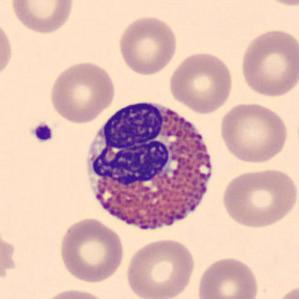Eosinophil: (76, 90, 222, 242)
Platelets: (31, 121, 54, 144)
RBC: (220, 165, 298, 230), (57, 216, 127, 284), (217, 100, 290, 165), (123, 235, 197, 299), (47, 59, 117, 124), (167, 49, 235, 115), (238, 26, 298, 99), (116, 13, 180, 77), (194, 254, 260, 299), (8, 0, 76, 36), (0, 16, 15, 84), (37, 286, 110, 299), (275, 283, 298, 299), (254, 0, 298, 8)
